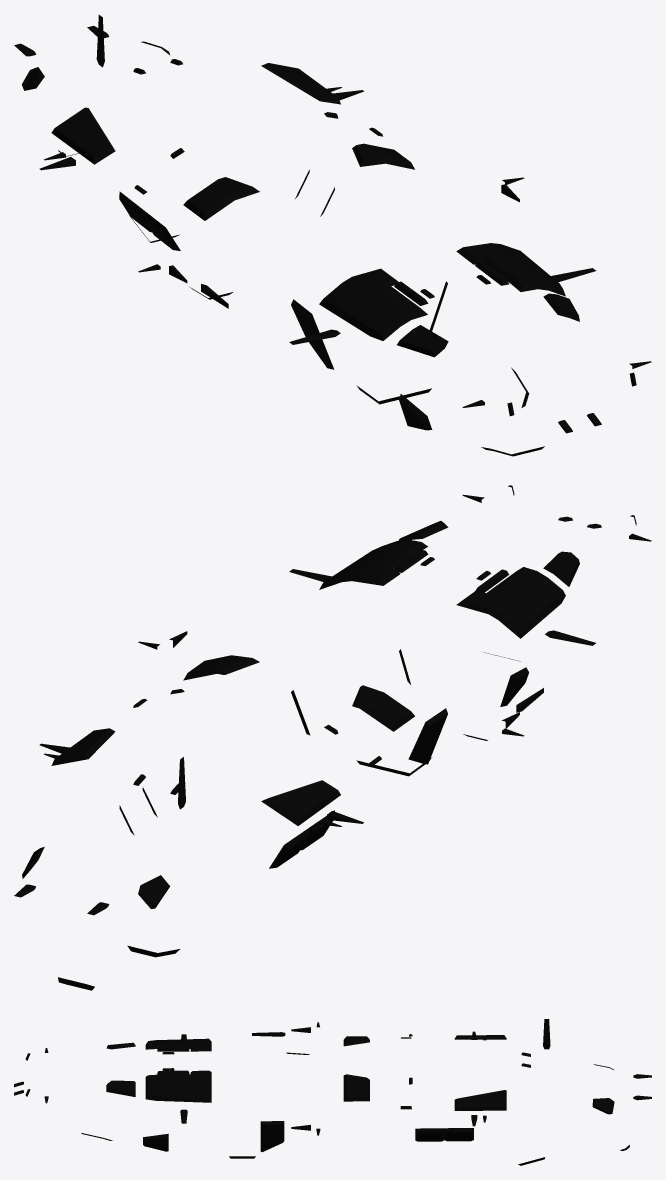
Rendered from hgn_assault_frigate_01_t4.glb.
3 views of the same model, one above another, from view 1: azimuth 30°, elevation 25°; view 2: azimuth 150°, elevation 25°; view 3: azimuth 270°, elevation 25° (orthographic). The views are drawn at different scales.
Visible parts, largest first — view 1: hgn_assault_frigate_01_t4_LOD0; view 2: hgn_assault_frigate_01_t4_LOD0; view 3: hgn_assault_frigate_01_t4_LOD0.
Boxes of the visible parts, x1=… form: hgn_assault_frigate_01_t4_LOD0: x1=14, y1=15, x2=651, y2=456; hgn_assault_frigate_01_t4_LOD0: x1=14, y1=485, x2=651, y2=990; hgn_assault_frigate_01_t4_LOD0: x1=14, y1=1019, x2=651, y2=1165.
Size of what is drawn, in the model's own units: 1.61 by 0.8698 by 3.83.
Materials: 1 (1 with a texture image).
